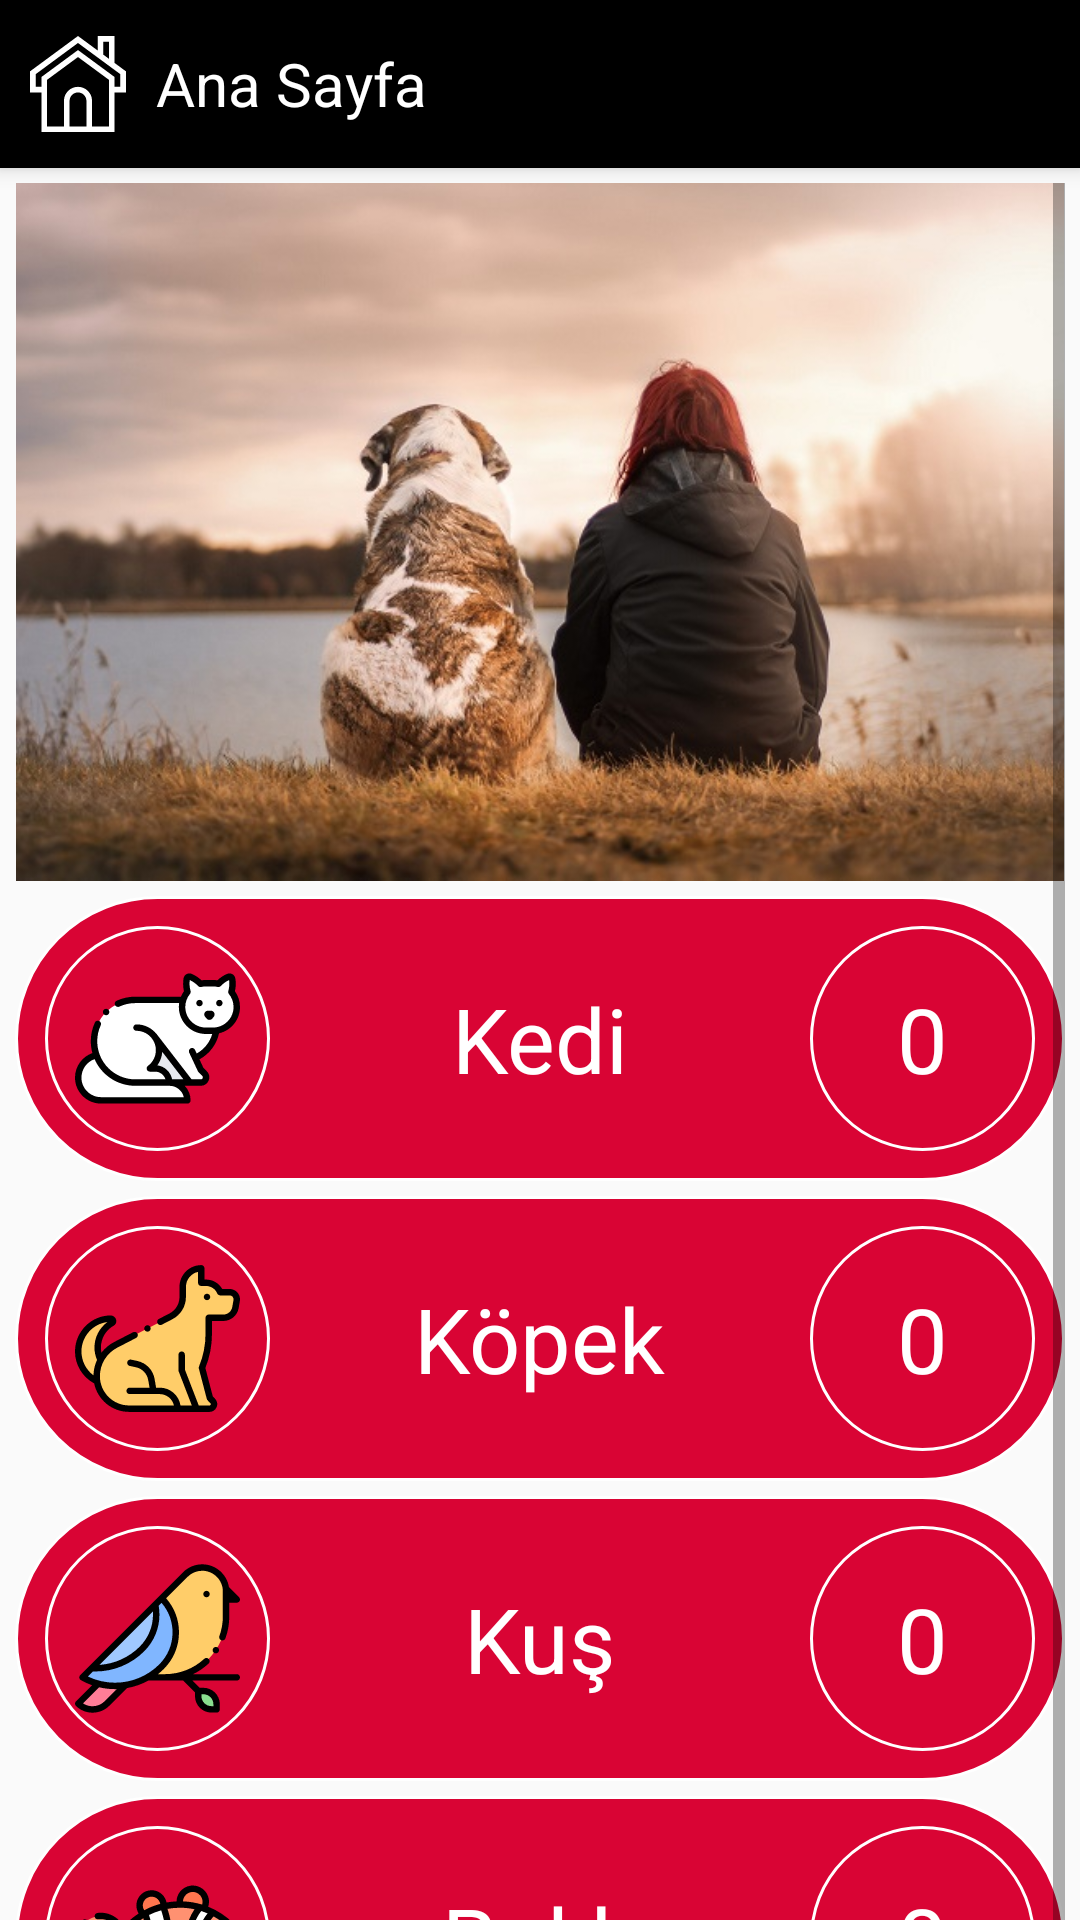

Where to tap for icons on this 1080x1920 app screen, as [x,y]:
home bwhite: [78,84]
pet bird: [157,1638]
pet cat: [157,1038]
pet dog: [157,1338]
